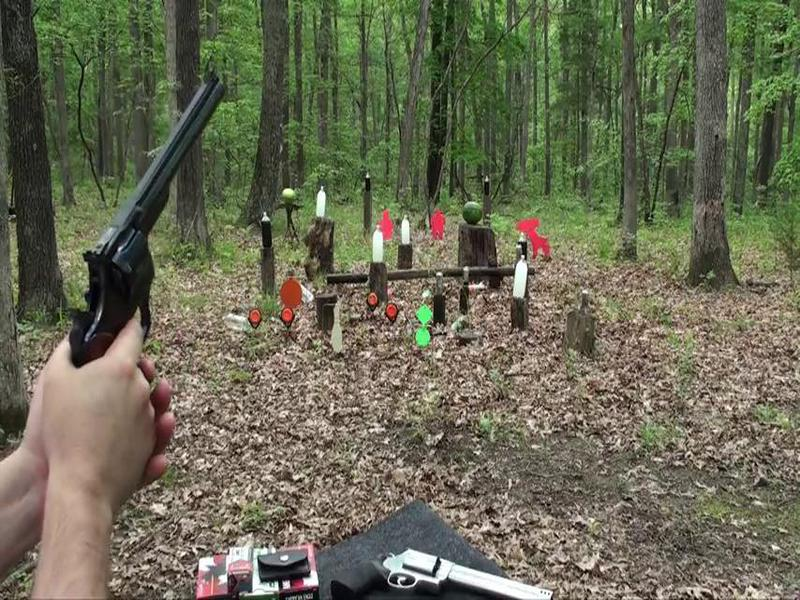Revolver: (72, 61, 222, 391)
